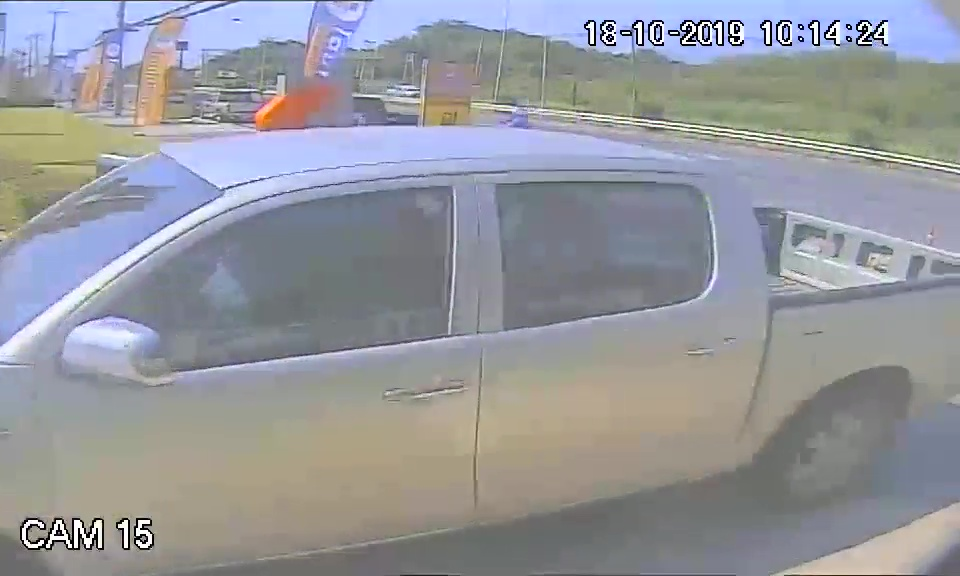pickup: (7, 129, 960, 539)
